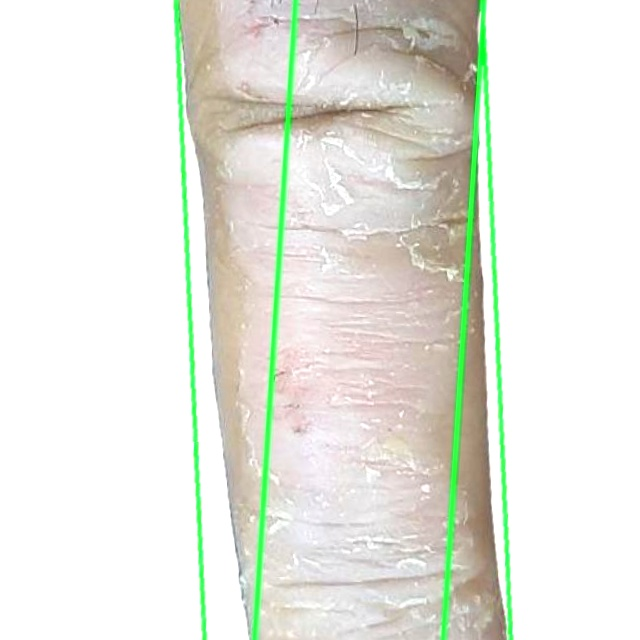Eczema: (176, 0, 510, 639), (0, 0, 295, 639), (442, 0, 639, 639)
